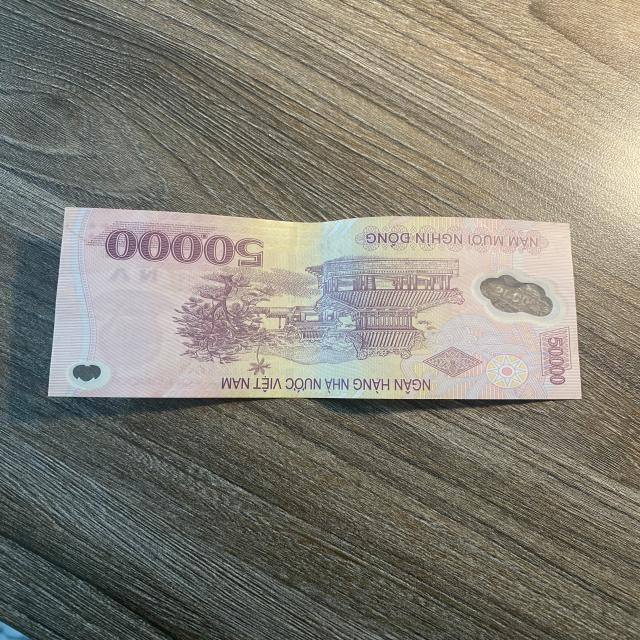50 000 VND: (38, 176, 592, 425)
